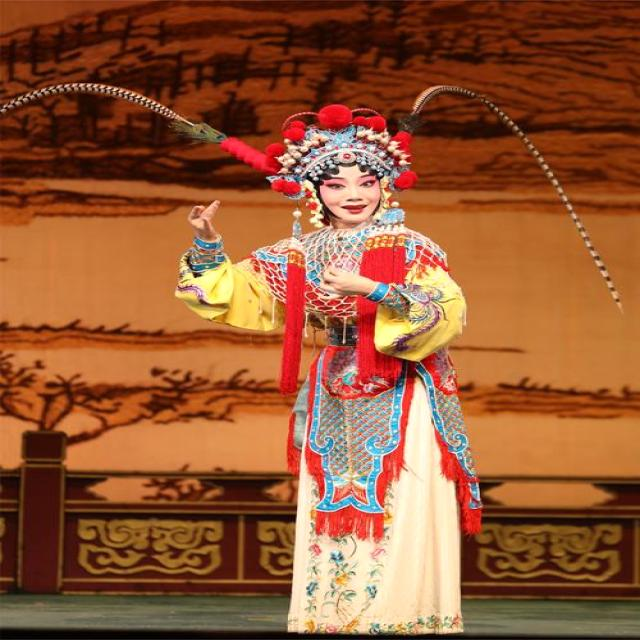Reeves-s Pheasant: (399, 86, 621, 308), (0, 83, 227, 143)
